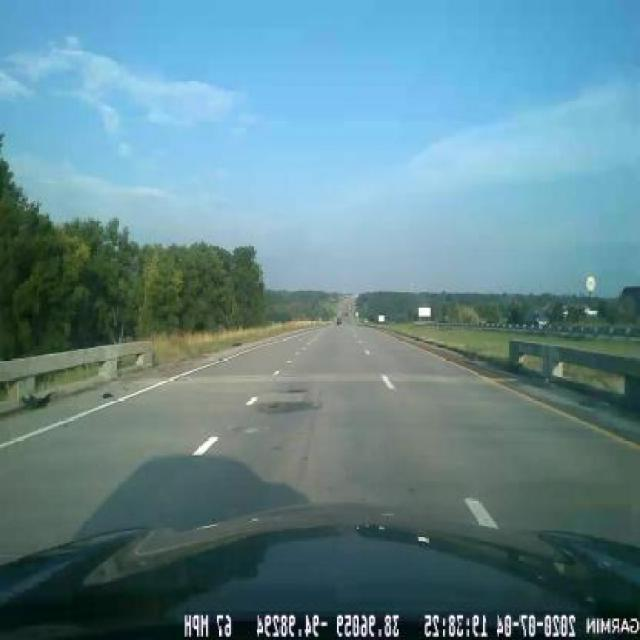pothole: (255, 394, 326, 425)
